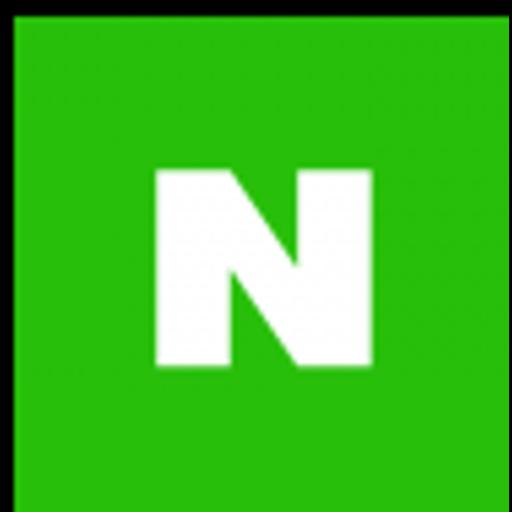Naver: (3, 0, 509, 512)
